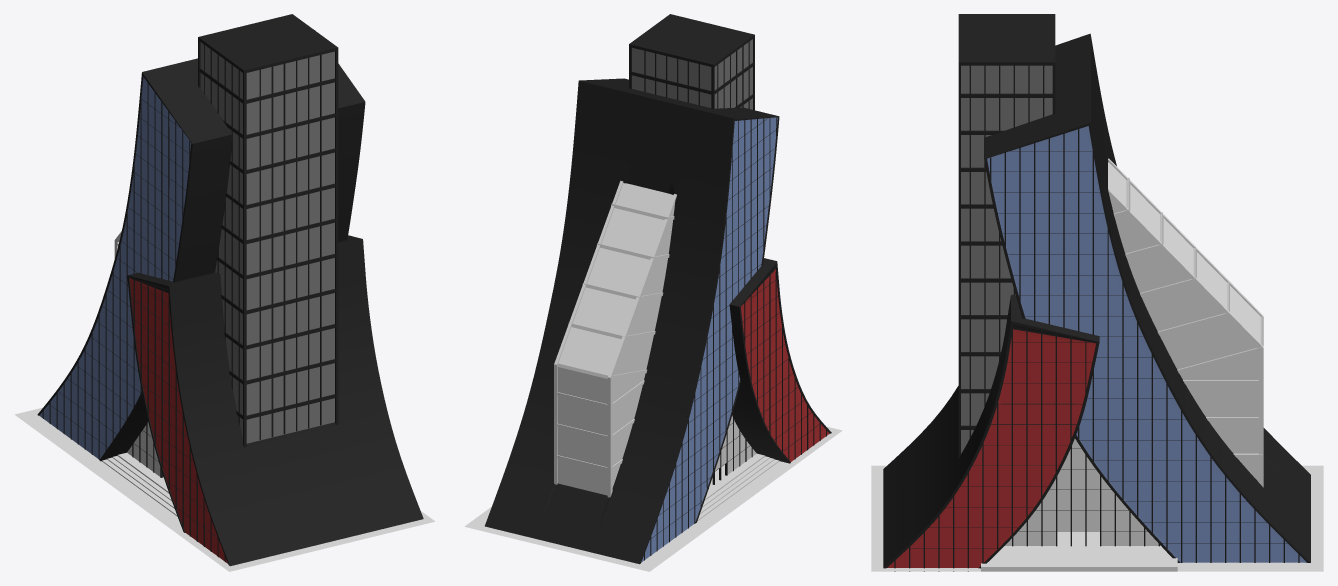
The model's file is Skyscraper_7.fbx.
The picture shows the model from 3 angles, left to right: view 1: azimuth 30°, elevation 25°; view 2: azimuth 150°, elevation 25°; view 3: azimuth 270°, elevation 25°; orthographic projection. The views are drawn at different scales.
Visible parts, largest first — view 1: Plane.423, Cube.506, Plane.424, Plane.425, Cube.507, Cube.511, Cube.513, Cube.509, Cube.512, Cube.508, Plane.426; view 2: Plane.424, Cube.517, Plane.423, Cube.506, Plane.425, Cube.507, Cube.509, Cube.519, Plane.426, Cube.518, Cube.508, Cube.511 (+1 smaller); view 3: Plane.424, Plane.423, Cube.506, Cube.517, Plane.425, Plane.427, Cube.507, Cube.509, Cube.511, Cube.519, Cube.512, Cube.508 (+3 smaller).
Boxes of the visible parts, bbox=[...] form: Plane.423: bbox=[127, 235, 423, 566]; Cube.506: bbox=[198, 14, 338, 447]; Plane.424: bbox=[37, 30, 365, 461]; Plane.425: bbox=[14, 407, 434, 571]; Cube.507: bbox=[42, 83, 190, 459]; Cube.511: bbox=[199, 68, 335, 419]; Cube.513: bbox=[259, 55, 321, 439]; Cube.509: bbox=[133, 278, 225, 562]; Cube.512: bbox=[204, 44, 239, 425]; Cube.508: bbox=[49, 99, 189, 447]; Plane.426: bbox=[127, 422, 160, 476]; Plane.424: bbox=[485, 78, 779, 564]; Cube.517: bbox=[554, 180, 676, 497]; Plane.423: bbox=[729, 258, 831, 463]; Cube.506: bbox=[629, 14, 754, 110]; Plane.425: bbox=[464, 426, 842, 571]; Cube.507: bbox=[521, 117, 776, 560]; Cube.509: bbox=[744, 268, 826, 459]; Cube.519: bbox=[557, 203, 674, 379]; Plane.426: bbox=[715, 415, 756, 474]; Cube.518: bbox=[557, 380, 644, 470]; Cube.508: bbox=[651, 118, 775, 538]; Cube.511: bbox=[631, 62, 753, 107]; Plane.424: bbox=[984, 33, 1310, 562]; Plane.423: bbox=[883, 294, 1099, 568]; Cube.506: bbox=[958, 14, 1055, 458]; Cube.517: bbox=[1108, 158, 1263, 487]; Plane.425: bbox=[871, 465, 1323, 571]; Plane.427: bbox=[1005, 439, 1160, 545]; Cube.507: bbox=[990, 129, 1299, 562]; Cube.509: bbox=[894, 328, 1086, 571]; Cube.511: bbox=[961, 93, 1052, 429]; Cube.519: bbox=[1113, 178, 1263, 373]; Cube.512: bbox=[969, 65, 1044, 438]; Cube.508: bbox=[989, 151, 1287, 543].
Size of the model in its own units: 12306 by 26258 by 22215.
